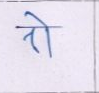e_matra: (26, 11, 50, 26)
